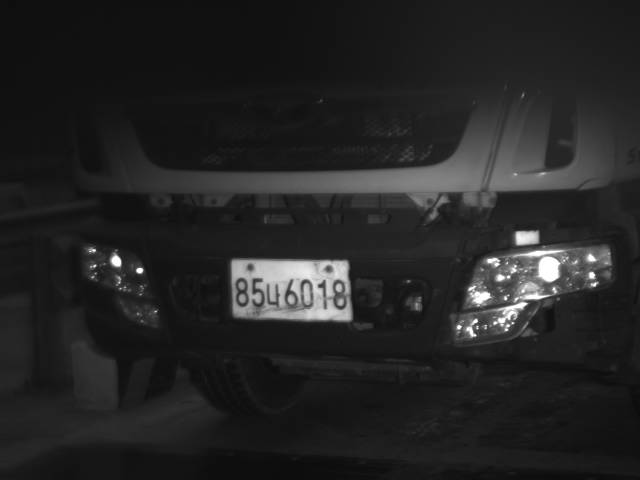car: (65, 16, 639, 415)
plate: (227, 256, 355, 321)
